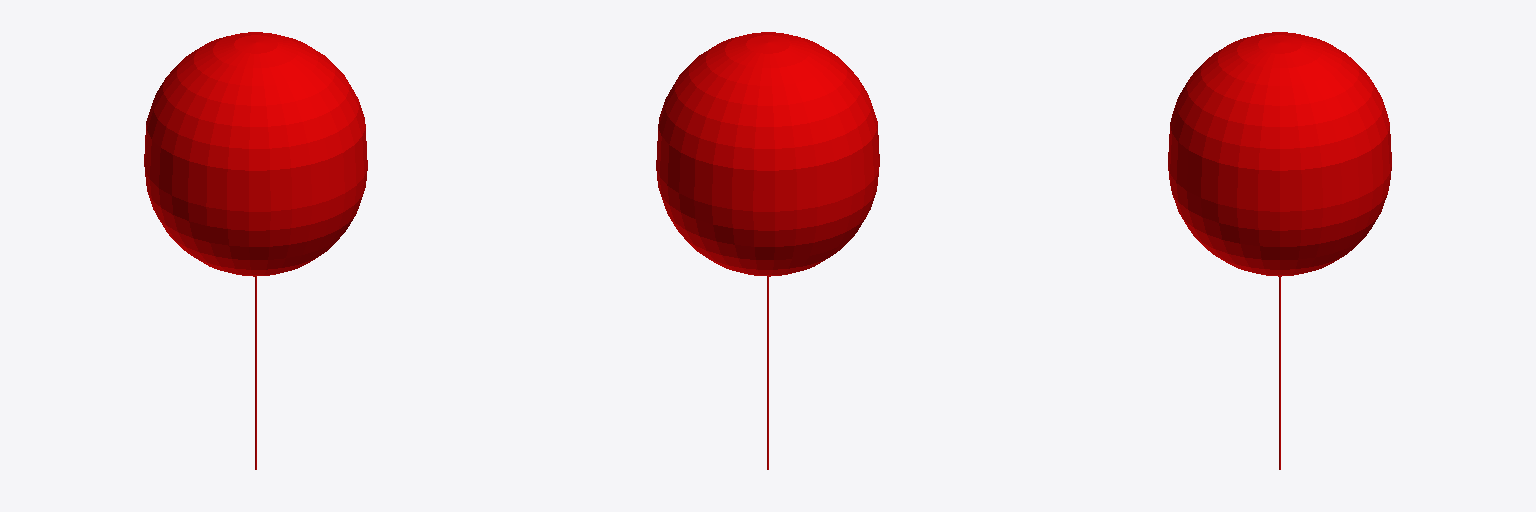
Rendered from Balloon.obj.
3 renders of one model, left to right at view 1: azimuth 30°, elevation 25°; view 2: azimuth 150°, elevation 25°; view 3: azimuth 270°, elevation 25°, orthographic.
Visible parts, largest first — view 1: Balloon; view 2: Balloon; view 3: Balloon.
Part boxes in pixels (bbox=[...]): Balloon: bbox=[144, 32, 367, 469]; Balloon: bbox=[656, 32, 879, 469]; Balloon: bbox=[1168, 32, 1391, 469].
Bounding box in the file's own units: 2 × 4.2 × 2.